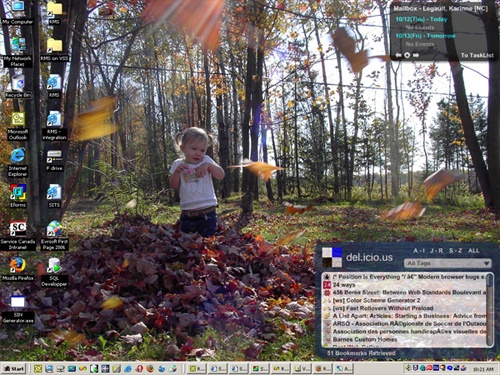person: (168, 128, 228, 240)
person/hand: (195, 164, 210, 179), (177, 163, 190, 174)
person/head: (181, 130, 210, 164)
